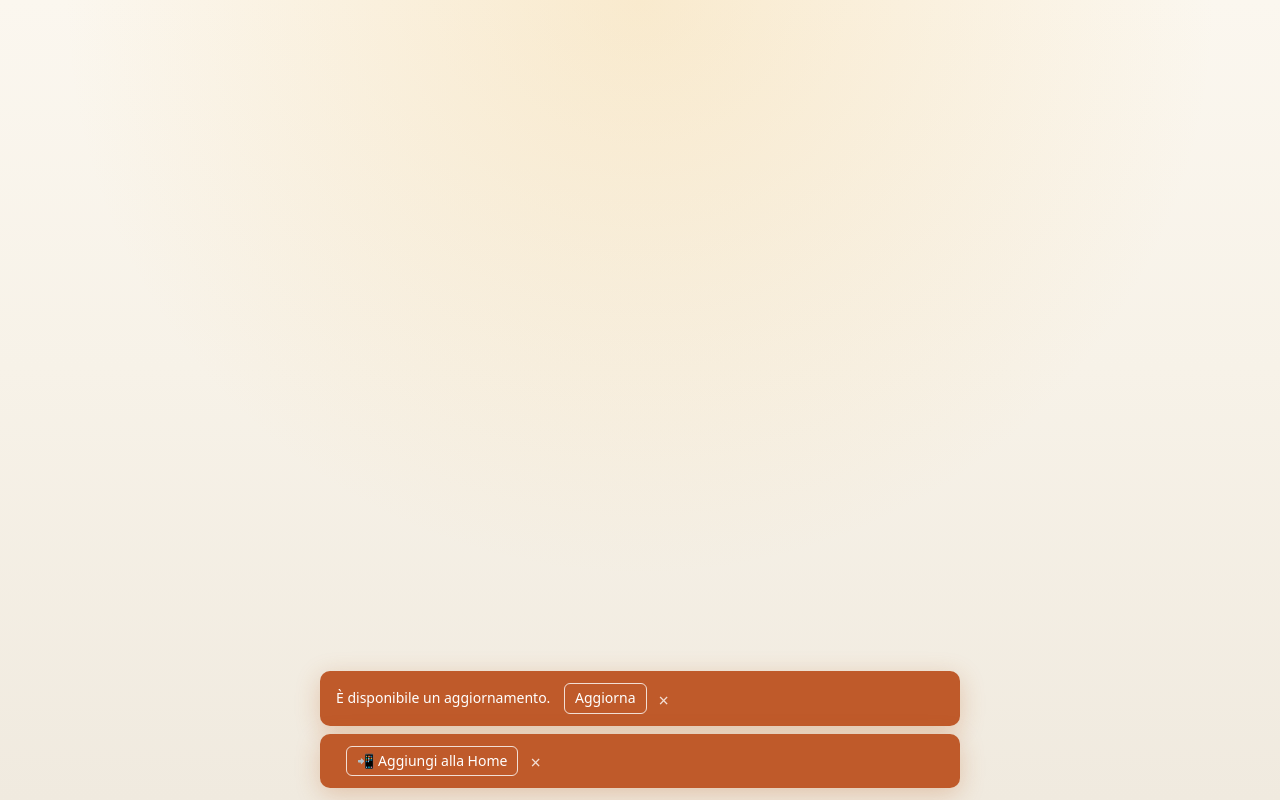
Test: CustomerPwaPrompt › chiude il banner aggiornamento con la X senza applicare l'update
What coordinates should you click on to do the following:
click the button named "Chiudi"
I would click on:
 (664, 700)
Its box is x1=655 y1=691 x2=673 y2=709.
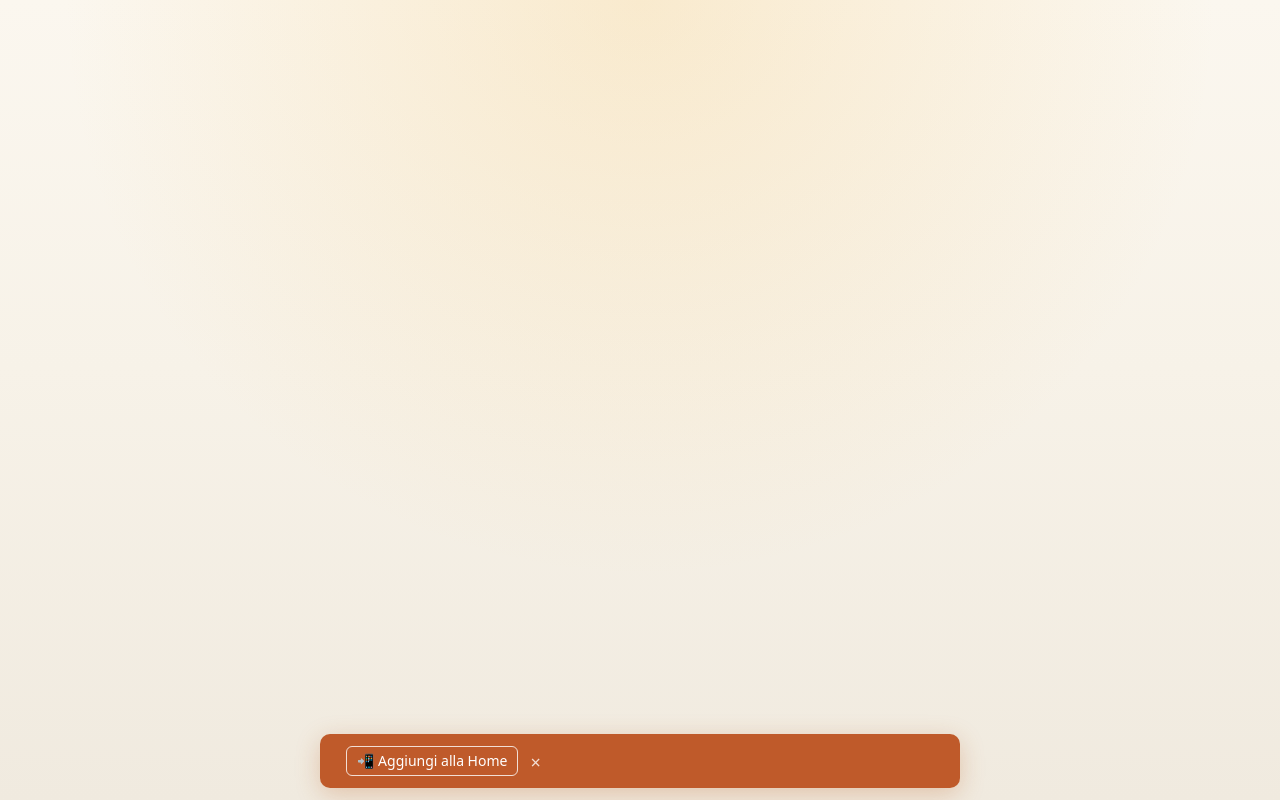
Expected: the text "È disponibile un aggiornamento" is gone
